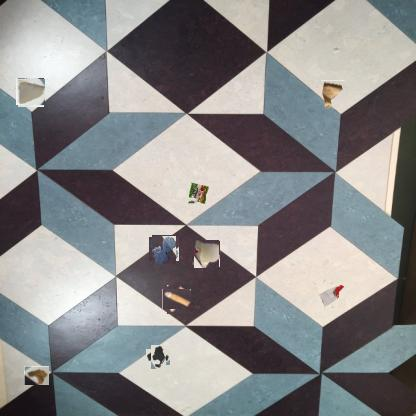dirty: (17, 79, 45, 106), (192, 241, 220, 267), (321, 80, 345, 109), (318, 284, 346, 308), (187, 179, 211, 205), (165, 287, 189, 312), (24, 366, 49, 385)
liquid: (151, 235, 178, 263), (148, 347, 168, 367)
